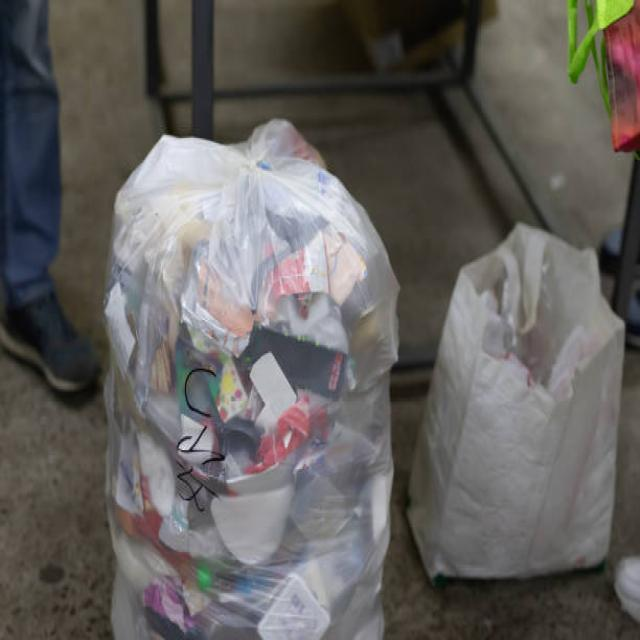trash: (81, 135, 442, 621), (431, 223, 611, 593)
